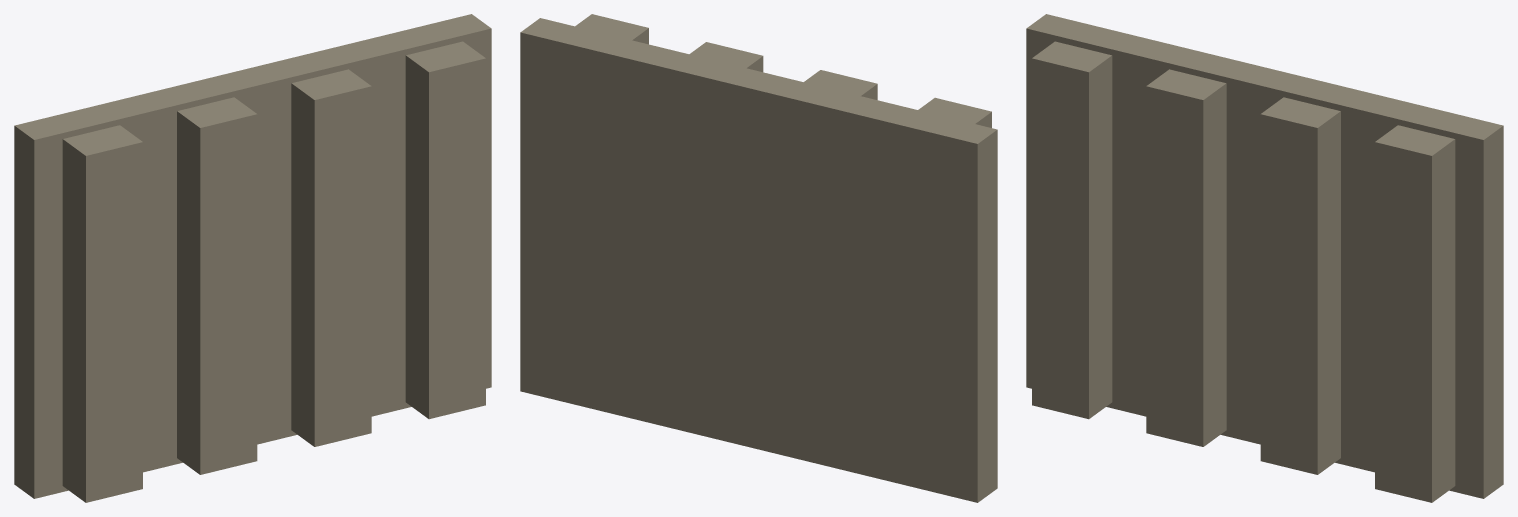
The model's file is raum_heizkoerper.glb.
The picture shows the model from 3 angles, left to right: view 1: azimuth 30°, elevation 25°; view 2: azimuth 150°, elevation 25°; view 3: azimuth 330°, elevation 25°; orthographic projection.
Visible parts, largest first — view 1: ruecken, rippe_3, rippe_0, rippe_2, rippe_1; view 2: ruecken, rippe_2, rippe_1, rippe_3, rippe_0; view 3: ruecken, rippe_0, rippe_1, rippe_3, rippe_2.
Boxes of the visible parts, x1,y1,x2,y2 form: ruecken: (14,14,491,498); rippe_3: (405,41,485,419); rippe_0: (62,125,142,502); rippe_2: (291,69,371,446); rippe_1: (177,97,257,474); ruecken: (520,18,997,502); rippe_2: (689,42,763,72); rippe_1: (804,70,877,99); rippe_3: (575,14,648,44); rippe_0: (918,97,991,127); ruecken: (1026,14,1503,498); rippe_0: (1032,41,1112,419); rippe_1: (1146,69,1226,446); rippe_3: (1375,125,1455,502); rippe_2: (1260,97,1340,474).
Size of the model in its own units: 0.8 by 0.6 by 0.13.
